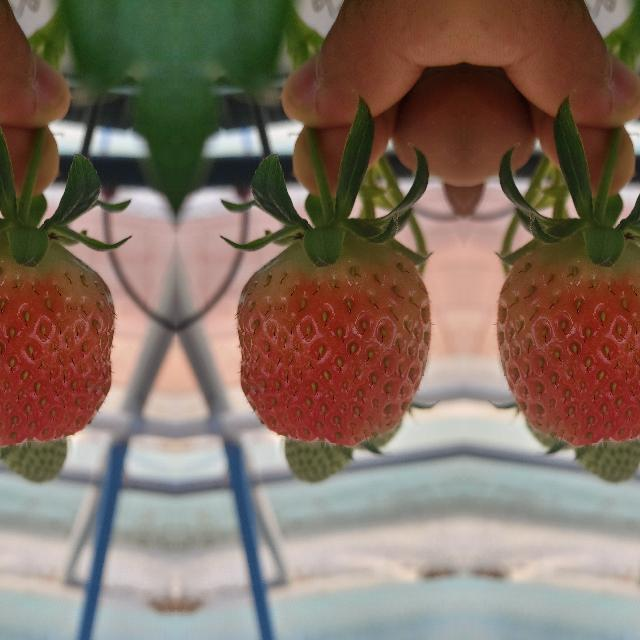Health_100: (236, 232, 430, 446), (496, 232, 640, 445), (0, 232, 114, 445)
